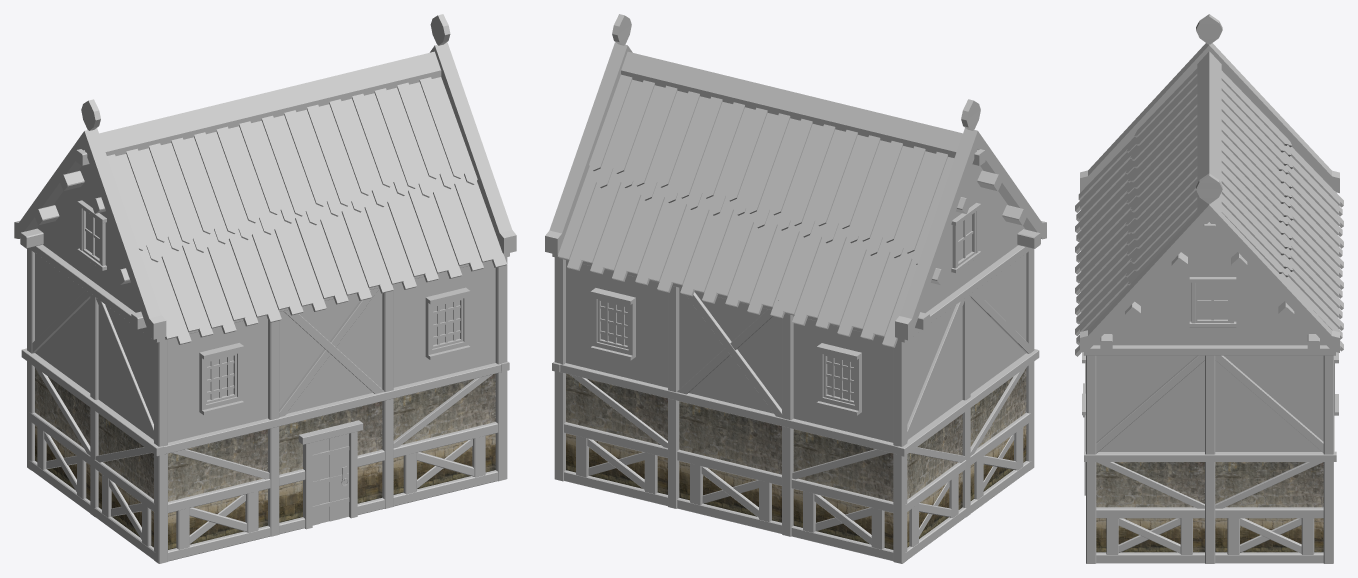
File: Building-14.fbx
3 views of the same model, side by side, from view 1: azimuth 30°, elevation 25°; view 2: azimuth 150°, elevation 25°; view 3: azimuth 270°, elevation 25° (orthographic). The views are drawn at different scales.
Visible parts, largest first — view 1: Plane.029; view 2: Plane.029; view 3: Plane.029.
Part boxes in pixels (left/top/right/bottom): Plane.029: left=14, top=14, right=516, bottom=563; Plane.029: left=545, top=14, right=1046, bottom=563; Plane.029: left=1075, top=14, right=1343, bottom=563.
Bounding box in the file's own units: 986 × 1055 × 661.
